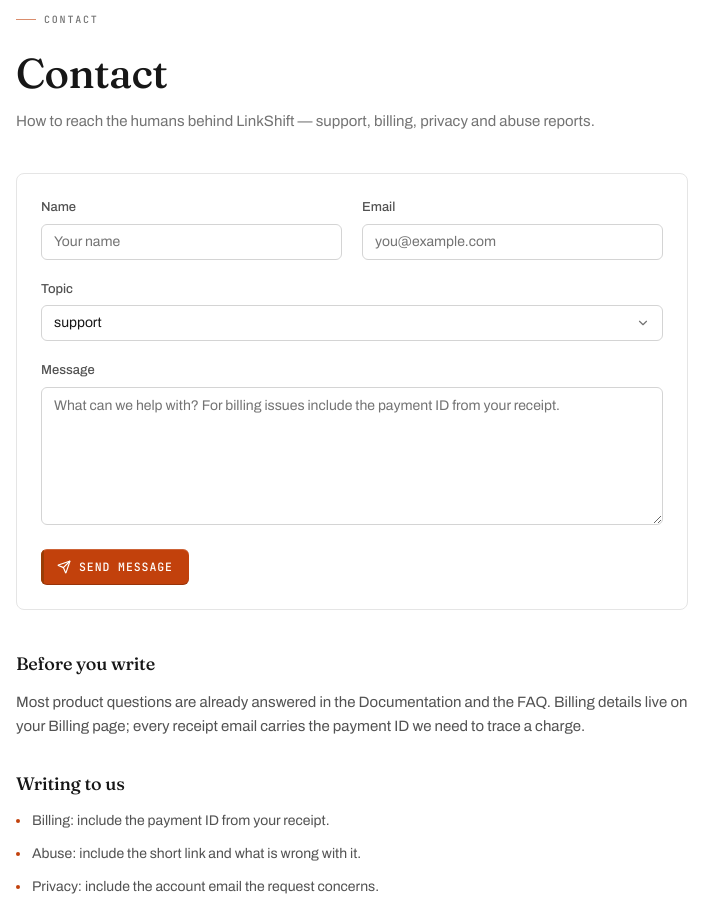
Contact page › shows inline validation errors before anything is sent
Click the button "Send message".
click(115, 567)  # box x1=41 y1=549 x2=189 y2=585
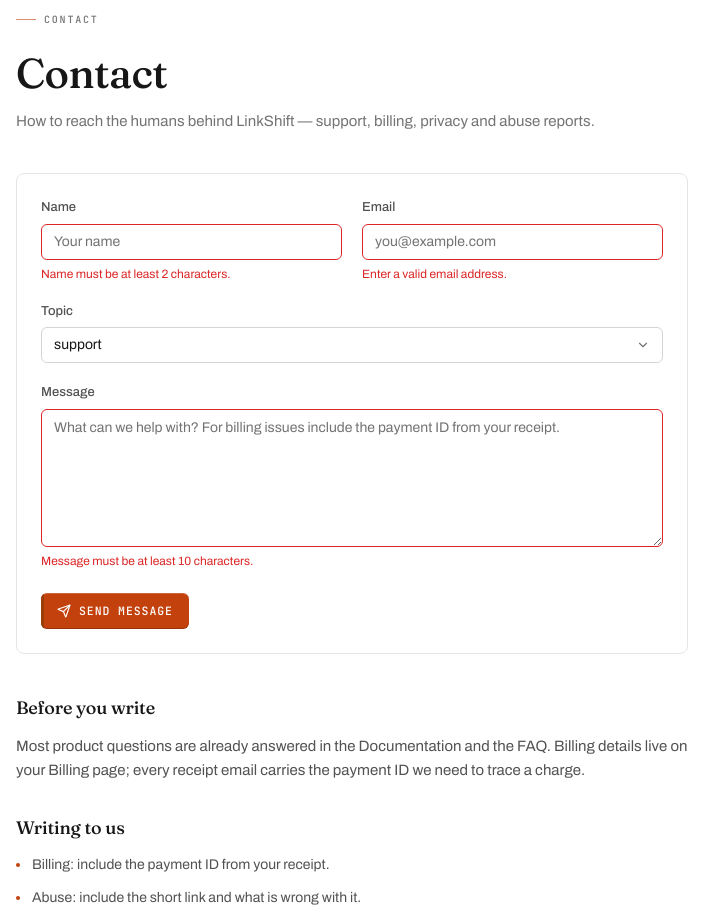
Check: the text "Name must be at least 2 characters." is shown, box x1=41 y1=267 x2=231 y2=281
Check: the text "Enter a valid email address." is shown, box x1=362 y1=267 x2=507 y2=281
Check: the text "Message must be at least 10 characters." is shown, box x1=41 y1=554 x2=253 y2=568
